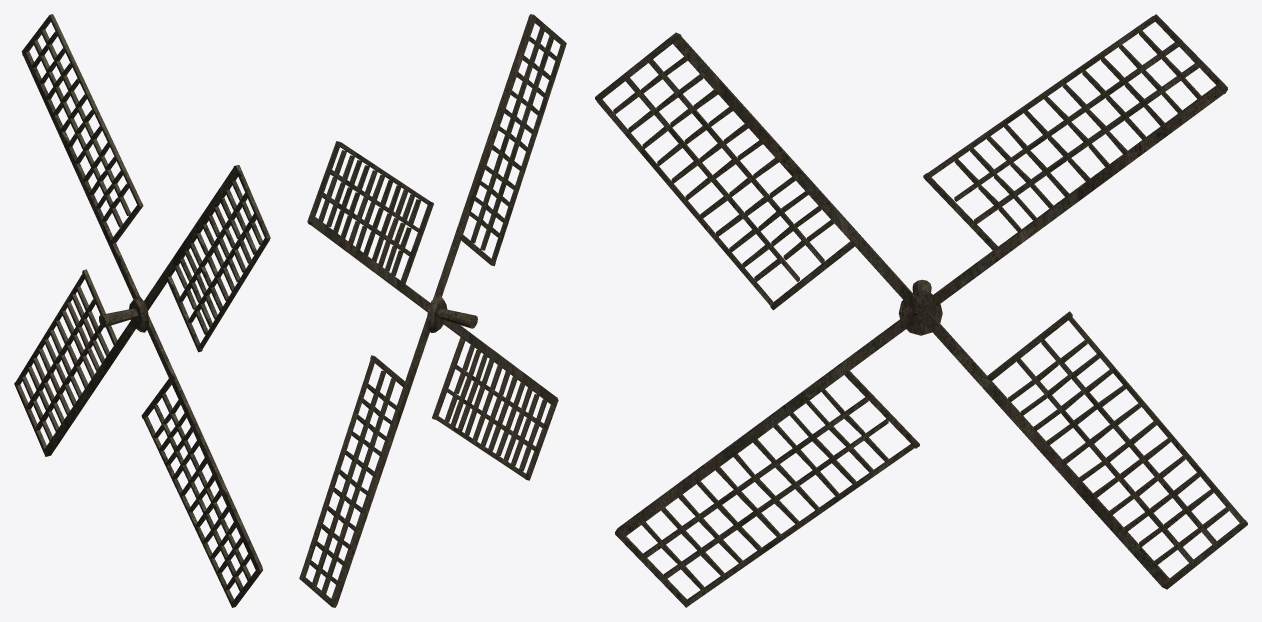
File: windmill_03_rad.obj
The picture shows the model from 3 angles, left to right: view 1: azimuth 30°, elevation 25°; view 2: azimuth 150°, elevation 25°; view 3: azimuth 270°, elevation 25°; orthographic projection. The views are drawn at different scales.
Visible parts, largest first — view 1: Object.2, Object.1; view 2: Object.2, Object.1; view 3: Object.2, Object.1.
Boxes of the visible parts, left/top/right/bottom form: Object.2: left=14, top=14, right=270, bottom=607; Object.1: left=99, top=296, right=148, bottom=332; Object.2: left=299, top=14, right=566, bottom=607; Object.1: left=426, top=295, right=477, bottom=332; Object.2: left=595, top=14, right=1247, bottom=607; Object.1: left=898, top=279, right=942, bottom=335.
Size of the model in its own units: 153 by 1609 by 1609.
